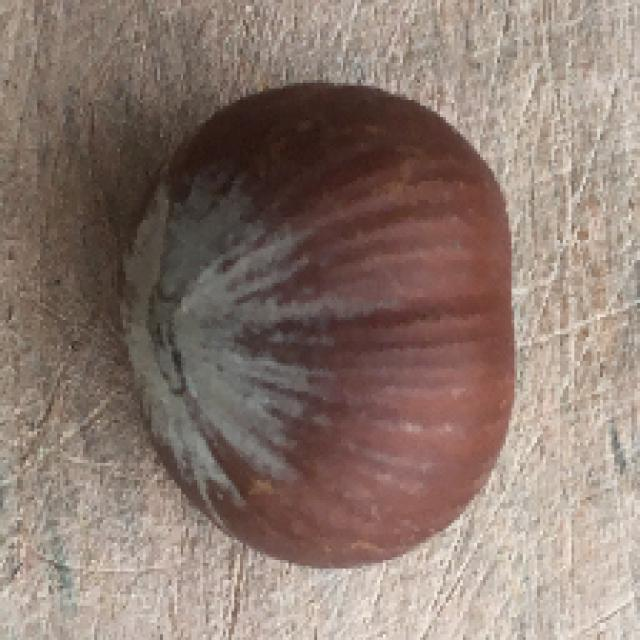damagedHazelnut: (119, 74, 515, 592)
